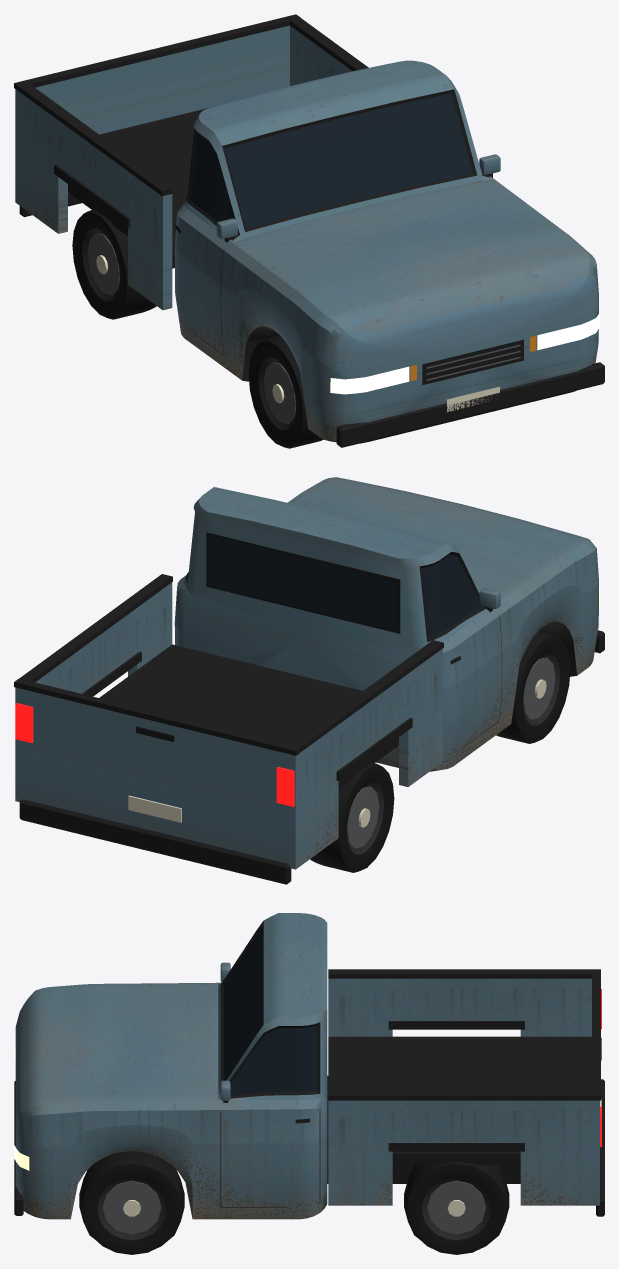
File: truck.glb
3 views of the same model, one above another, from view 1: azimuth 30°, elevation 25°; view 2: azimuth 150°, elevation 25°; view 3: azimuth 270°, elevation 25° (orthographic). The views are drawn at different scales.
Visible parts, largest first — view 1: body, wheel-back-right, wheel-front-right, wheel-back-right.1, wheel-front-right.1; view 2: body, wheel-back-right, wheel-front-right, wheel-front-right.1, wheel-back-right.1; view 3: body, wheel-front-left, wheel-back-left, wheel-back-left.1, wheel-front-left.1.
Boxes of the visible parts, x1,y1,x2,y2 form: body: [14, 14, 604, 447]; wheel-back-right: [72, 210, 156, 319]; wheel-front-right: [248, 335, 323, 448]; wheel-back-right.1: [82, 228, 119, 301]; wheel-front-right.1: [258, 357, 295, 430]; body: [14, 477, 604, 884]; wheel-back-right: [310, 763, 394, 872]; wheel-front-right: [496, 631, 570, 743]; wheel-front-right.1: [523, 652, 560, 725]; wheel-back-right.1: [347, 781, 383, 854]; body: [14, 913, 604, 1219]; wheel-front-left: [79, 1151, 184, 1254]; wheel-back-left: [404, 1162, 509, 1254]; wheel-back-left.1: [422, 1177, 491, 1240]; wheel-front-left.1: [97, 1177, 166, 1239].
Bounding box in the file's own units: 1.51 × 1.28 × 2.95.
Materials: 12 (1 with a texture image).
